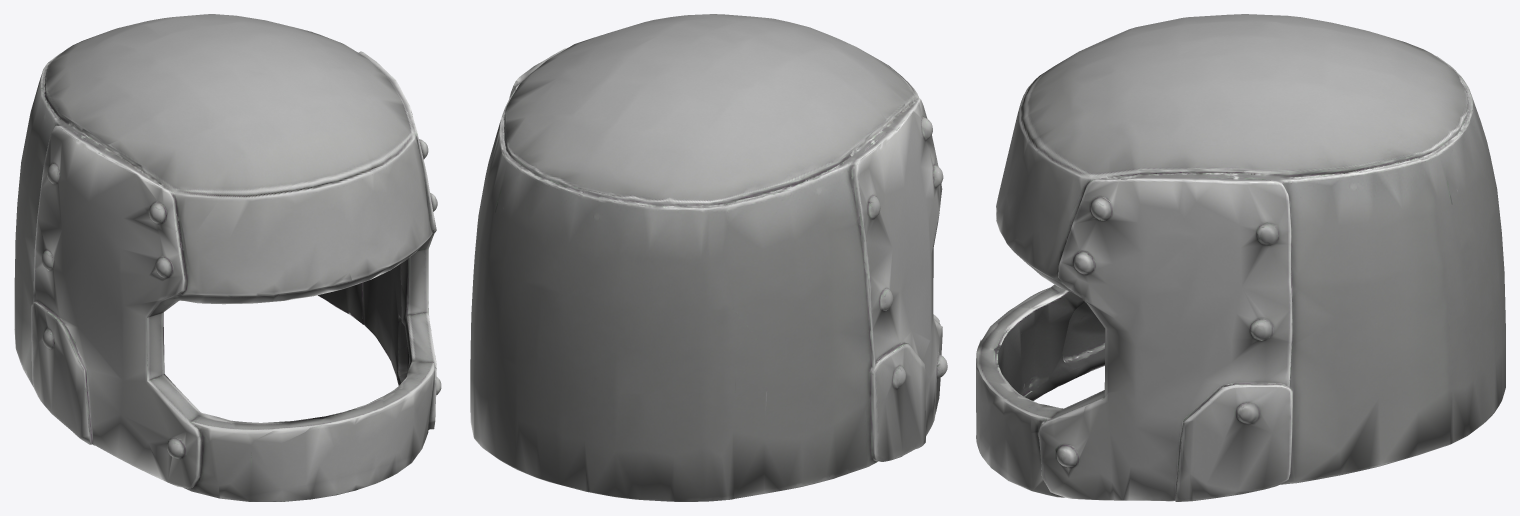
The model's file is Meshy_AI_Riveted_Iron_Helmet_0513153953_texture.fbx.
3 views of the same model, side by side, from view 1: azimuth 30°, elevation 25°; view 2: azimuth 150°, elevation 25°; view 3: azimuth 270°, elevation 25° (orthographic). The views are drawn at different scales.
Visible parts, largest first — view 1: Mesh_0; view 2: Mesh_0; view 3: Mesh_0.
Boxes of the visible parts, box(x1,y1,x2,y2) form: Mesh_0: box(14, 14, 441, 501); Mesh_0: box(470, 14, 947, 501); Mesh_0: box(976, 14, 1505, 501).
Size of the model in its own units: 166 by 159 by 191.
1 material, 1 textured.
